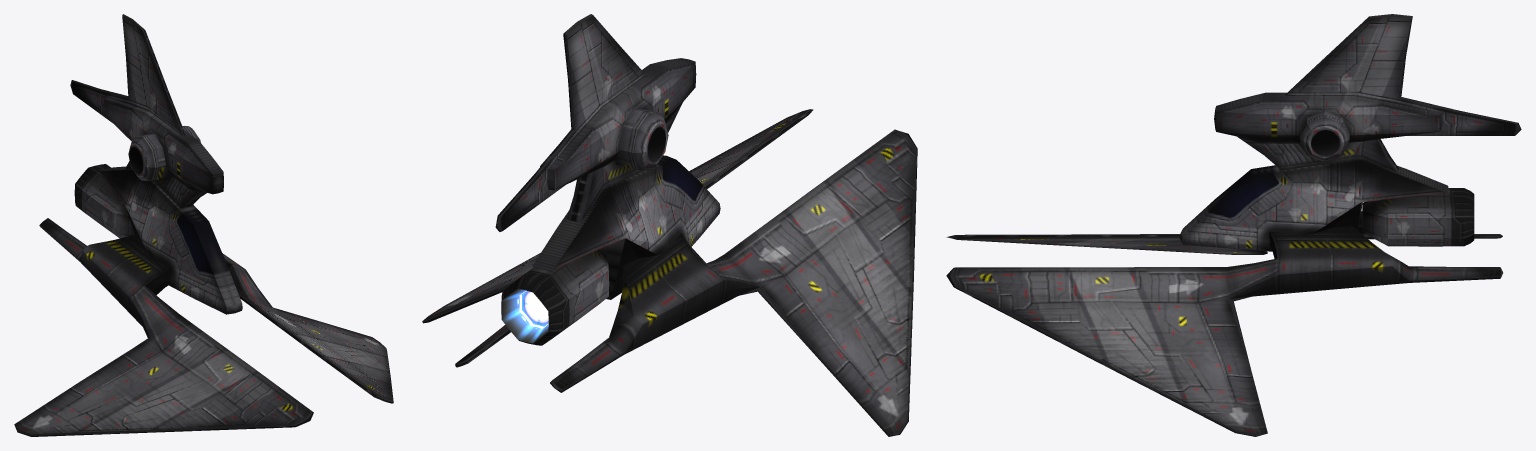
Rendered from schroedinger.gltf.
3 views of the same model, side by side, from view 1: azimuth 30°, elevation 25°; view 2: azimuth 150°, elevation 25°; view 3: azimuth 270°, elevation 25° (orthographic). The views are drawn at different scales.
Parts seen in each view (by area): view 1: base; view 2: base; view 3: base.
Part boxes in pixels (x1,y1,x2,y2): base: (14, 14, 393, 436); base: (422, 14, 917, 436); base: (946, 14, 1521, 436).
Size of the model in its own units: 14.95 by 12.62 by 19.85.
1 material, 1 textured.
